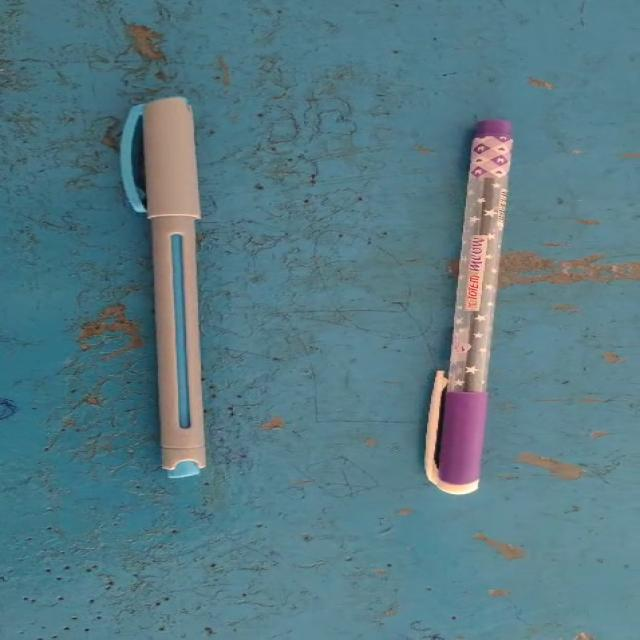pen: (380, 78, 557, 537), (85, 62, 259, 507)
